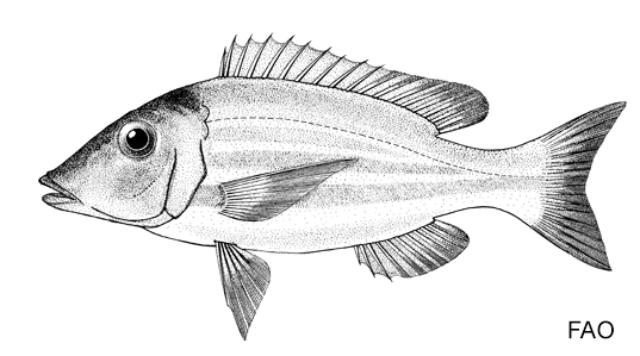Mulut: (30, 163, 96, 215)
Sirip Anal: (347, 210, 479, 288)
Sirip Dada: (212, 151, 374, 232)
Sirip Ekor: (520, 91, 630, 279)
Sirip Perut: (205, 237, 279, 347)
Sirip Punggung: (211, 27, 497, 142)
